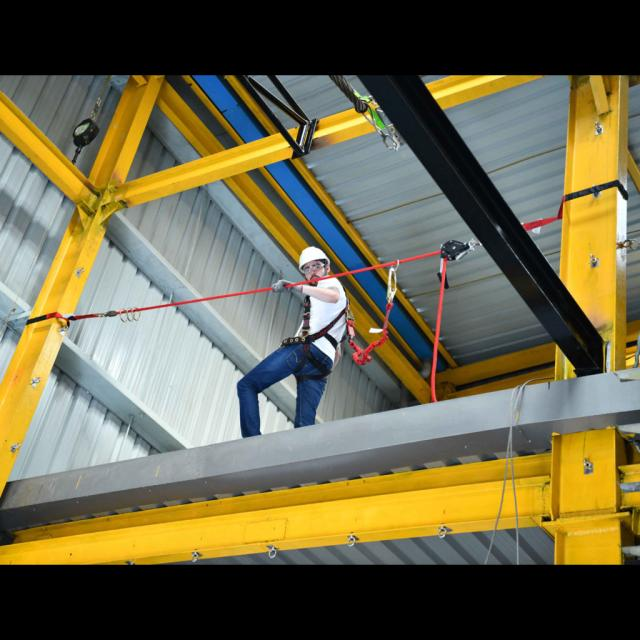harness: (342, 254, 408, 365)
